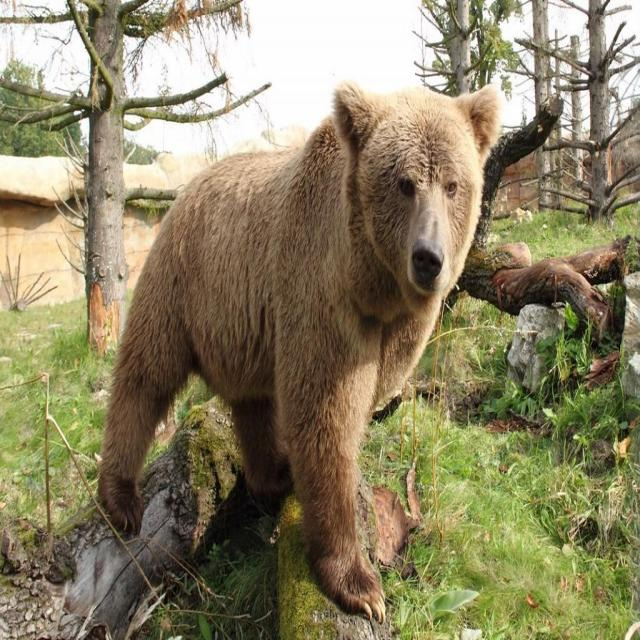Bear: (96, 81, 562, 630)
